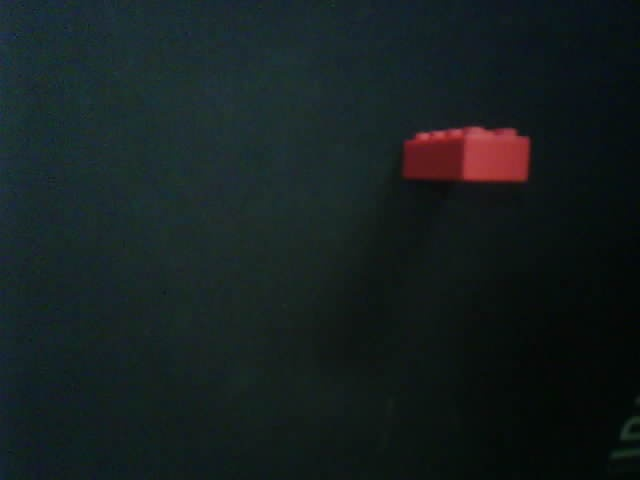lego: (402, 125, 531, 186)
